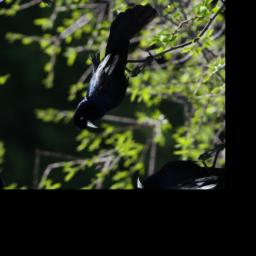Crow: (33, 0, 195, 139)
